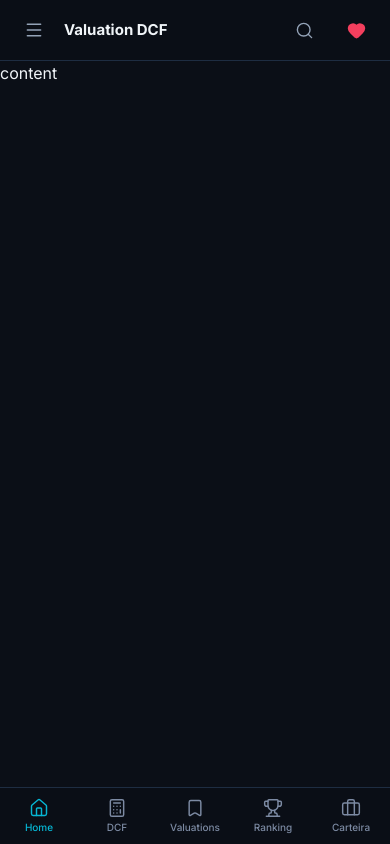
it: Layout mobile drawer › abre a gaveta pelo botão de menu
This screenshot has width=390, height=844.
Click the button named "Abrir menu": (34, 30) [12,8,56,52]
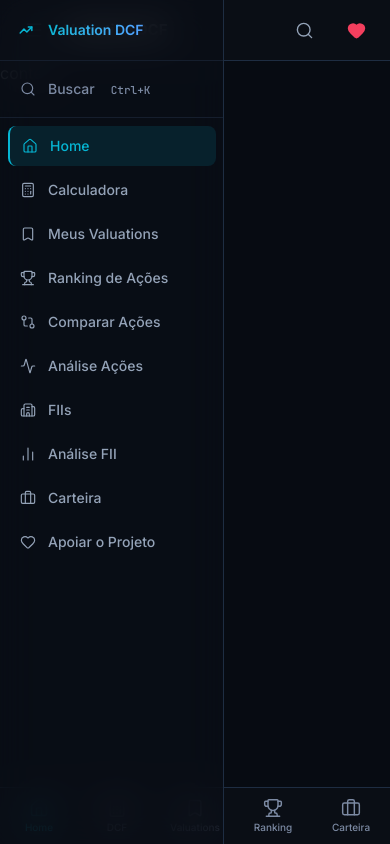
Expected: the element with test id "sidebar-scrim" is shown
